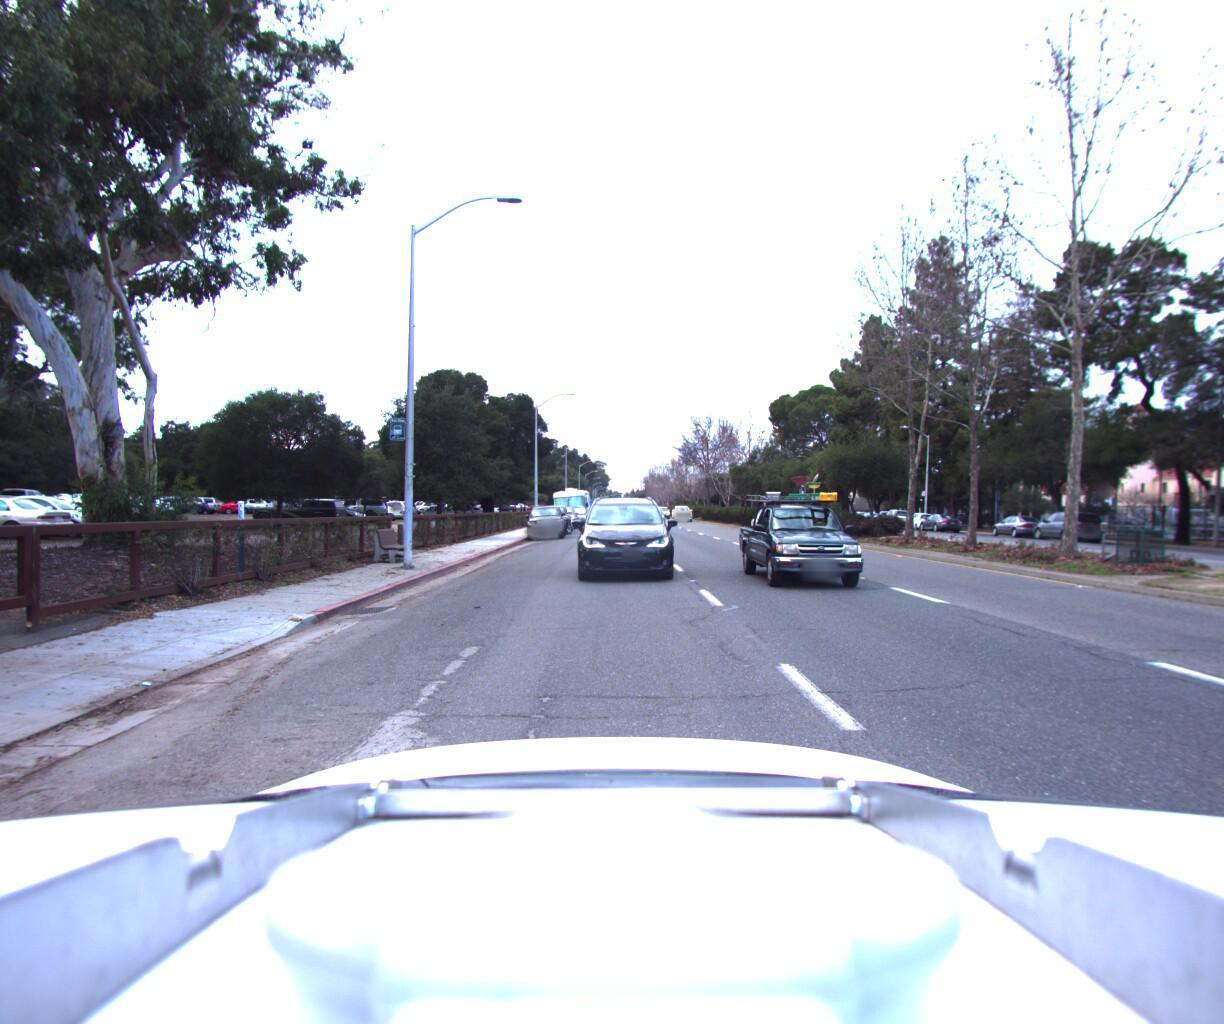car: (740, 460, 895, 605), (576, 489, 669, 582), (1027, 506, 1109, 543), (984, 509, 1050, 537), (525, 501, 565, 538), (536, 500, 572, 533), (918, 509, 964, 531), (897, 507, 938, 527), (670, 502, 693, 520)
other_vehicle: (550, 483, 590, 525)
